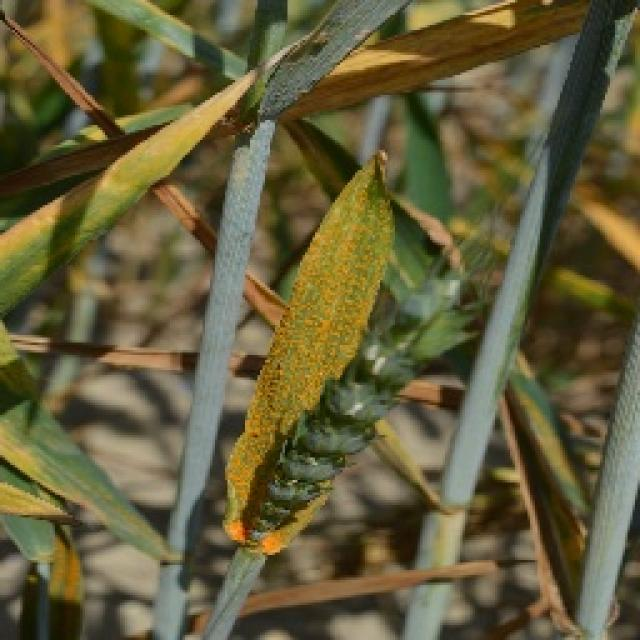Yellow Rust: (220, 147, 398, 555)
